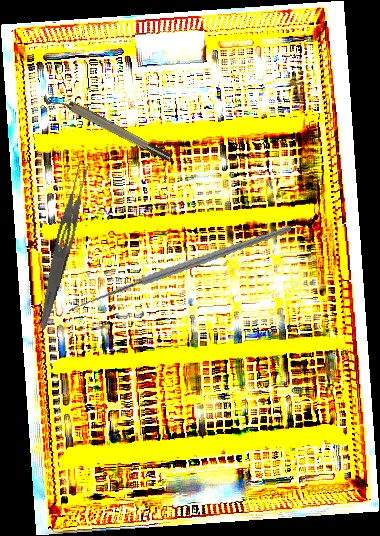Dressing Forceps: (36, 160, 93, 331)
Fixation Ring: (41, 84, 174, 170)
Hook Surgical: (67, 189, 292, 359)
